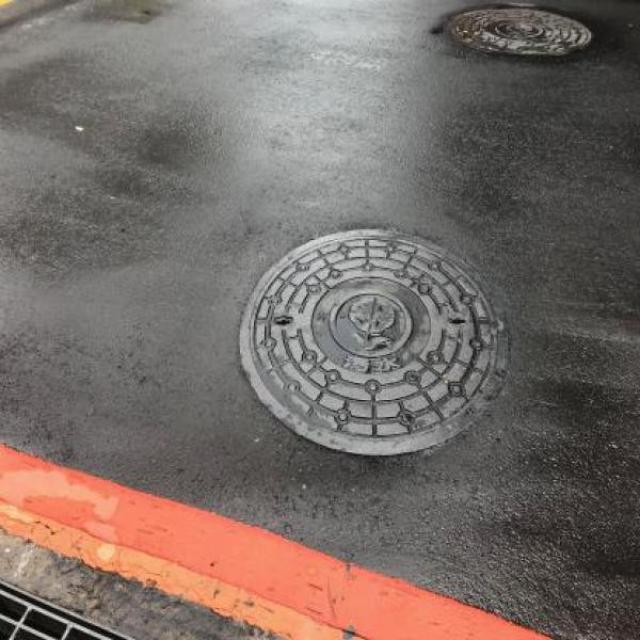Good: (233, 223, 514, 467), (441, 1, 598, 64)
